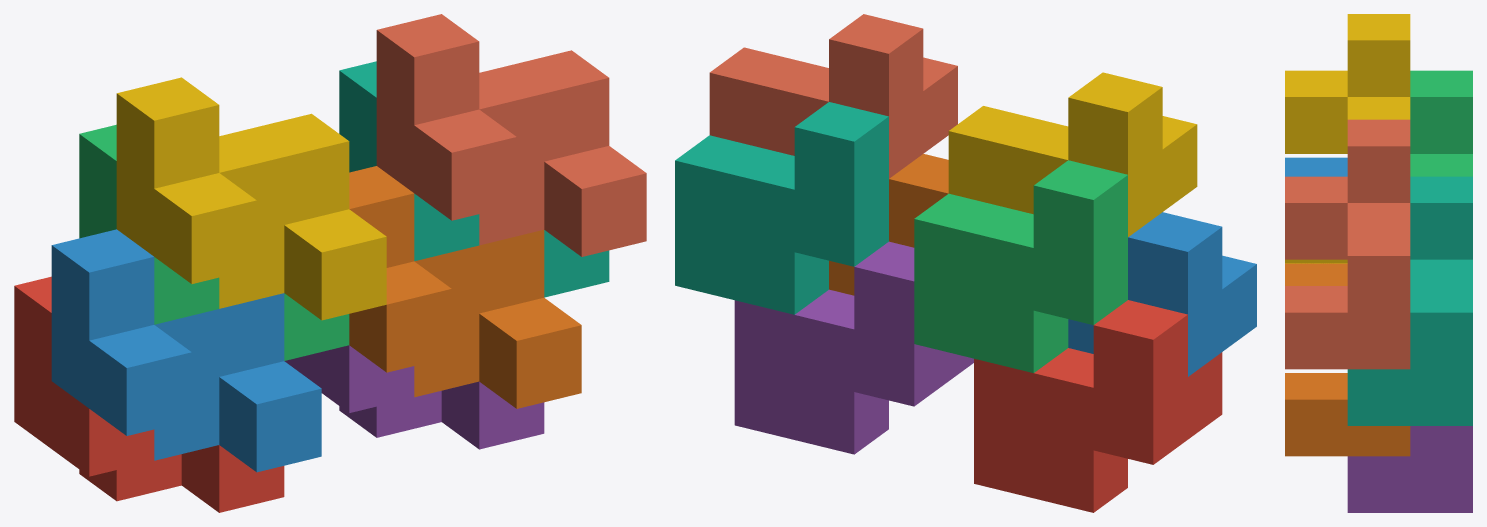
Rendered from tiling.obj.
3 views of the same model, side by side, from view 1: azimuth 30°, elevation 25°; view 2: azimuth 150°, elevation 25°; view 3: azimuth 270°, elevation 25° (orthographic). The views are drawn at different scales.
Parts seen in each view (by area): view 1: copy_1_domain_8, copy_1_domain_4, copy_1_domain_2, copy_1_domain_6, copy_1_domain_1, copy_1_domain_5, copy_1_domain_3, copy_1_domain_7; view 2: copy_1_domain_1, copy_1_domain_3, copy_1_domain_7, copy_1_domain_5, copy_1_domain_4, copy_1_domain_8, copy_1_domain_2, copy_1_domain_6; view 3: copy_1_domain_8, copy_1_domain_7, copy_1_domain_4, copy_1_domain_5, copy_1_domain_6, copy_1_domain_3, copy_1_domain_2.
Part boxes in pixels (x1,y1,x2,y2): copy_1_domain_8: (376,14,646,256); copy_1_domain_4: (116,77,386,320); copy_1_domain_2: (51,229,321,472); copy_1_domain_6: (349,166,581,408); copy_1_domain_1: (14,276,284,512); copy_1_domain_5: (284,345,544,449); copy_1_domain_3: (79,124,349,360); copy_1_domain_7: (339,61,609,297); copy_1_domain_1: (974,300,1222,512); copy_1_domain_3: (914,160,1127,372); copy_1_domain_7: (675,102,888,314); copy_1_domain_5: (734,241,973,454); copy_1_domain_4: (948,72,1197,236); copy_1_domain_8: (709,14,957,178); copy_1_domain_2: (1068,212,1256,376); copy_1_domain_6: (829,154,948,295); copy_1_domain_8: (1285,119,1410,369); copy_1_domain_7: (1347,176,1472,425); copy_1_domain_4: (1285,14,1410,263); copy_1_domain_5: (1347,426,1472,512); copy_1_domain_6: (1285,263,1410,456); copy_1_domain_3: (1410,70,1472,176); copy_1_domain_2: (1285,157,1347,176).
Size of the model in its own units: 8 by 6 by 3.
